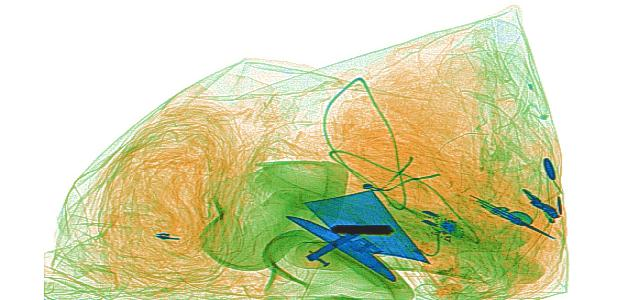scissors: (467, 192, 557, 240)
